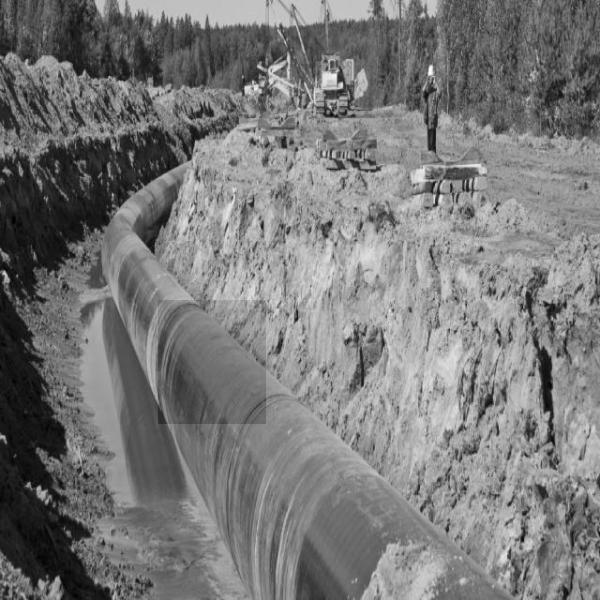no leak: (158, 300, 266, 424)
